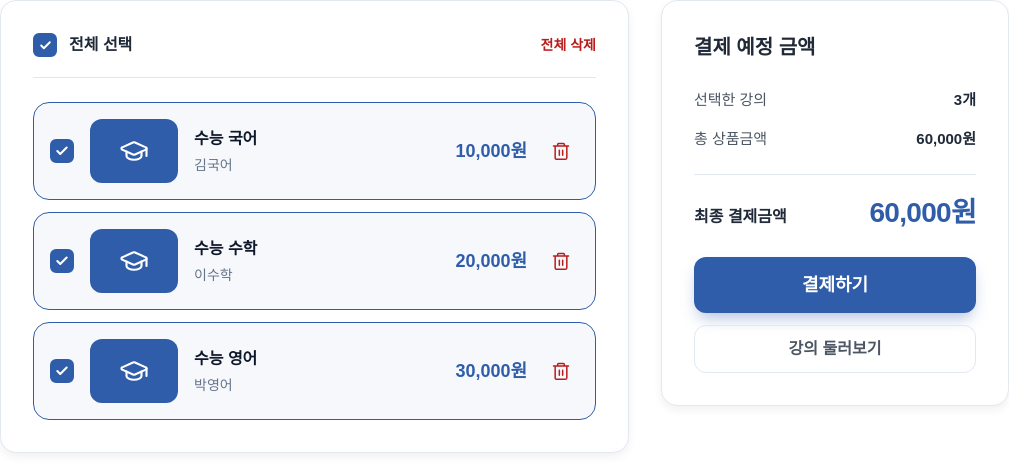
Test: CartClient — 장바구니 통합 › 전체 선택 › 일부만 선택된 상태에서 전체 선택을 누르면 모두 선택된다
Click the button with aria-label "수능 국어 선택": (134,151) [50,119,527,183]
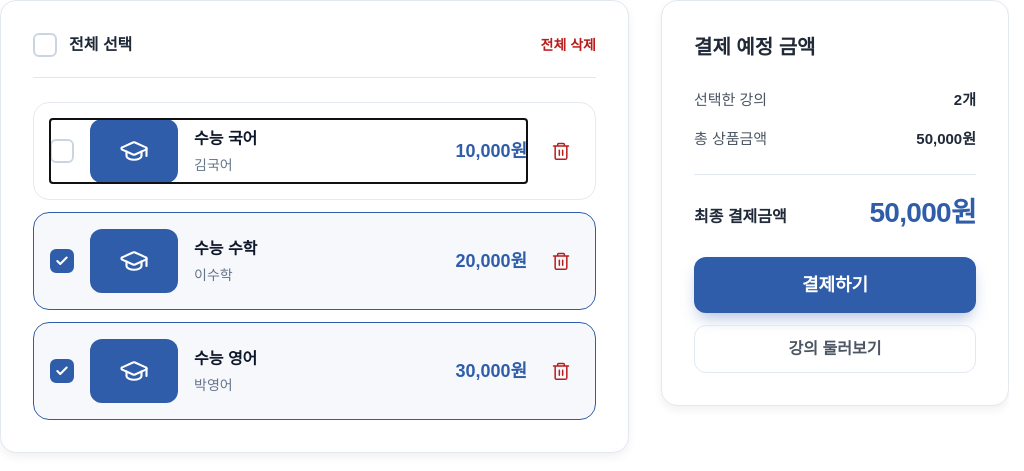
Expected: the text "2개" is shown, [954,89,976,112]
Click the button "전체 선택": (83,45) [33,33,132,57]
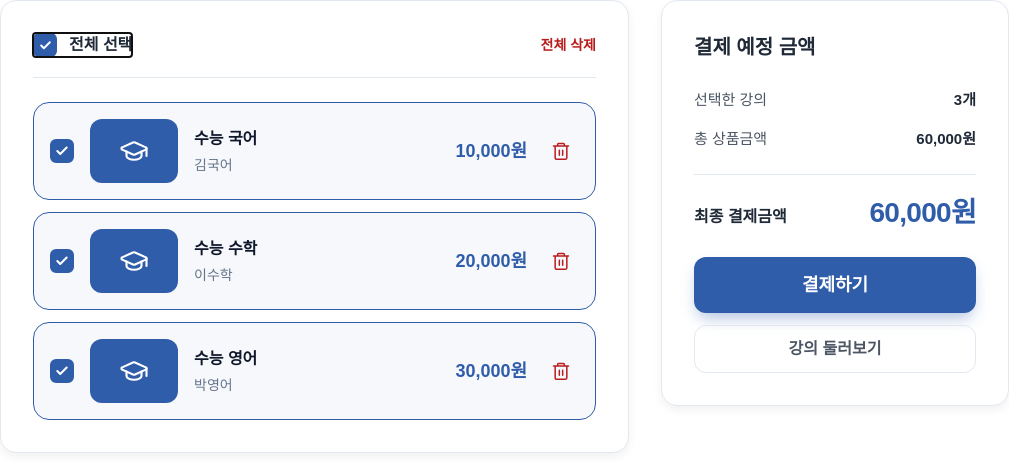
Expected: the text "3개" is shown, [954,89,976,112]
